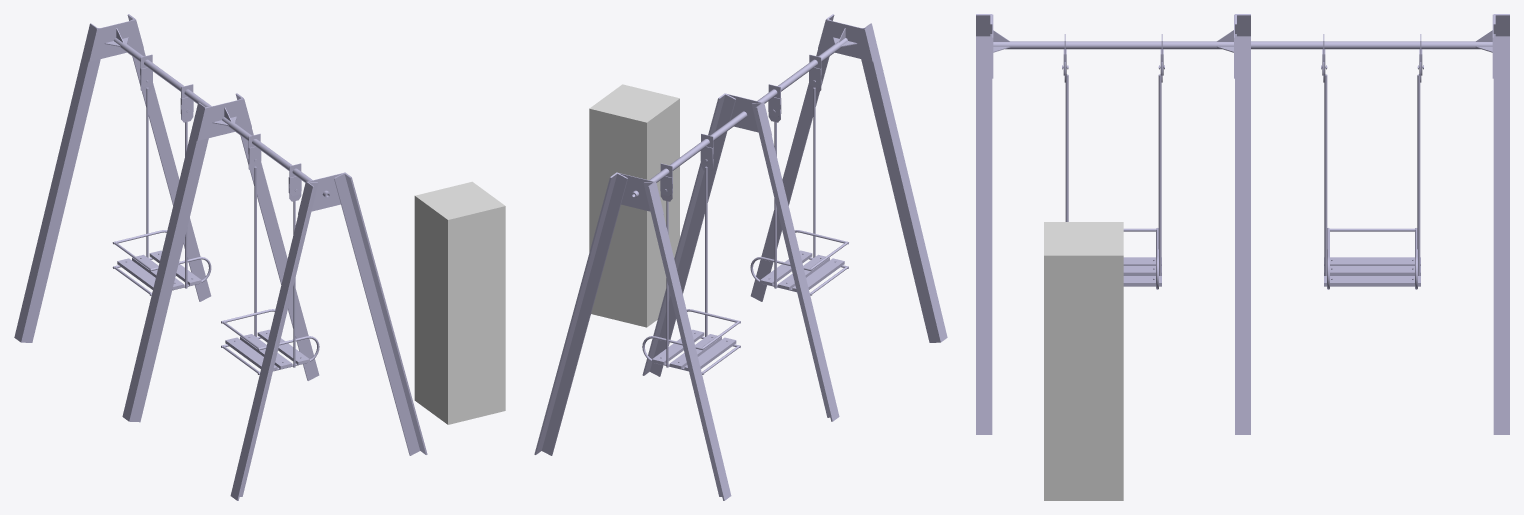
File: swing01 scale 0_3937.fbx
The picture shows the model from 3 angles, left to right: view 1: azimuth 30°, elevation 25°; view 2: azimuth 150°, elevation 25°; view 3: azimuth 270°, elevation 25°; orthographic projection. The views are drawn at different scales.
Parts seen in each view (by area): view 1: unnamed_1_reflectivity_30b, Cube; view 2: unnamed_1_reflectivity_30b, Cube; view 3: unnamed_1_reflectivity_30b, Cube.
Boxes of the visible parts, x1=… form: unnamed_1_reflectivity_30b: x1=14, y1=14, x2=427, y2=500; Cube: x1=414, y1=181, x2=505, y2=424; unnamed_1_reflectivity_30b: x1=534, y1=14, x2=947, y2=500; Cube: x1=589, y1=84, x2=679, y2=327; unnamed_1_reflectivity_30b: x1=976, y1=14, x2=1509, y2=434; Cube: x1=1044, y1=222, x2=1123, y2=500.
Bounding box in the file's own units: 101 × 97.63 × 132.
